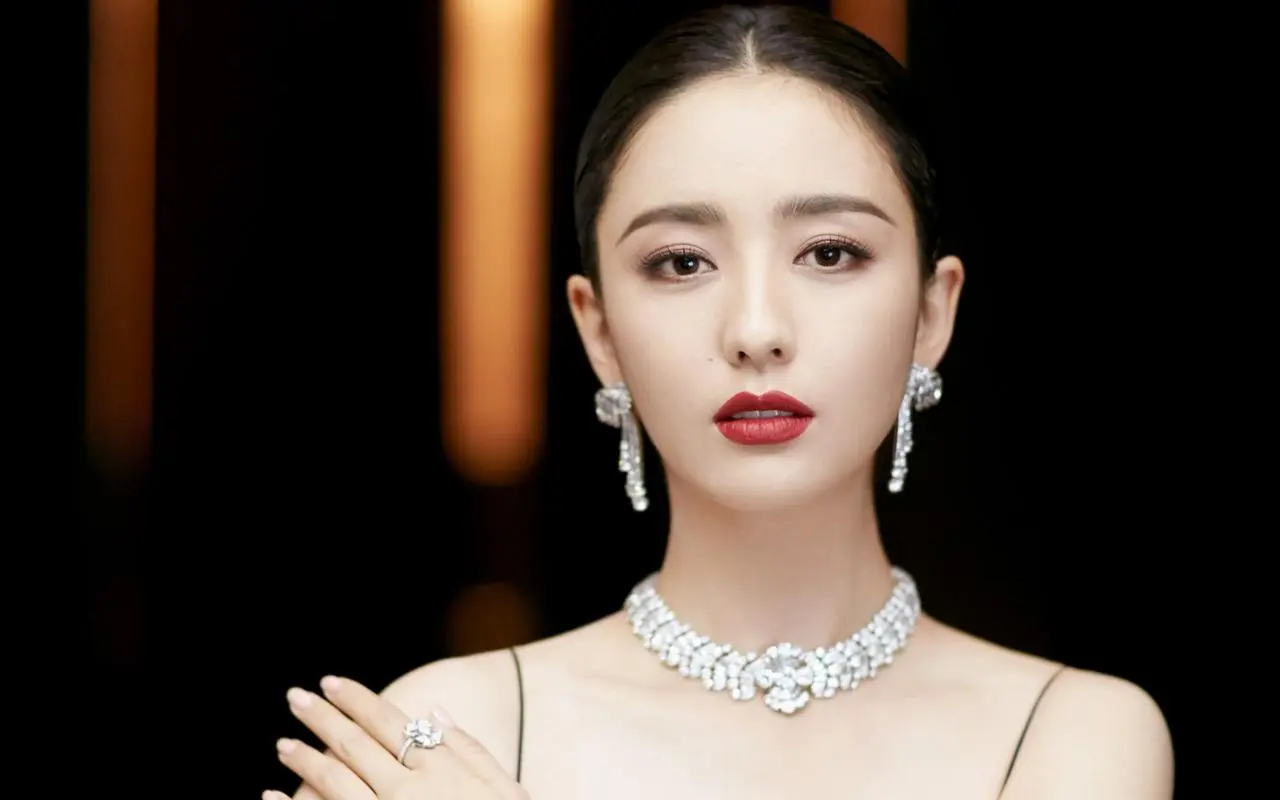withoutmask: (558, 20, 978, 559)
